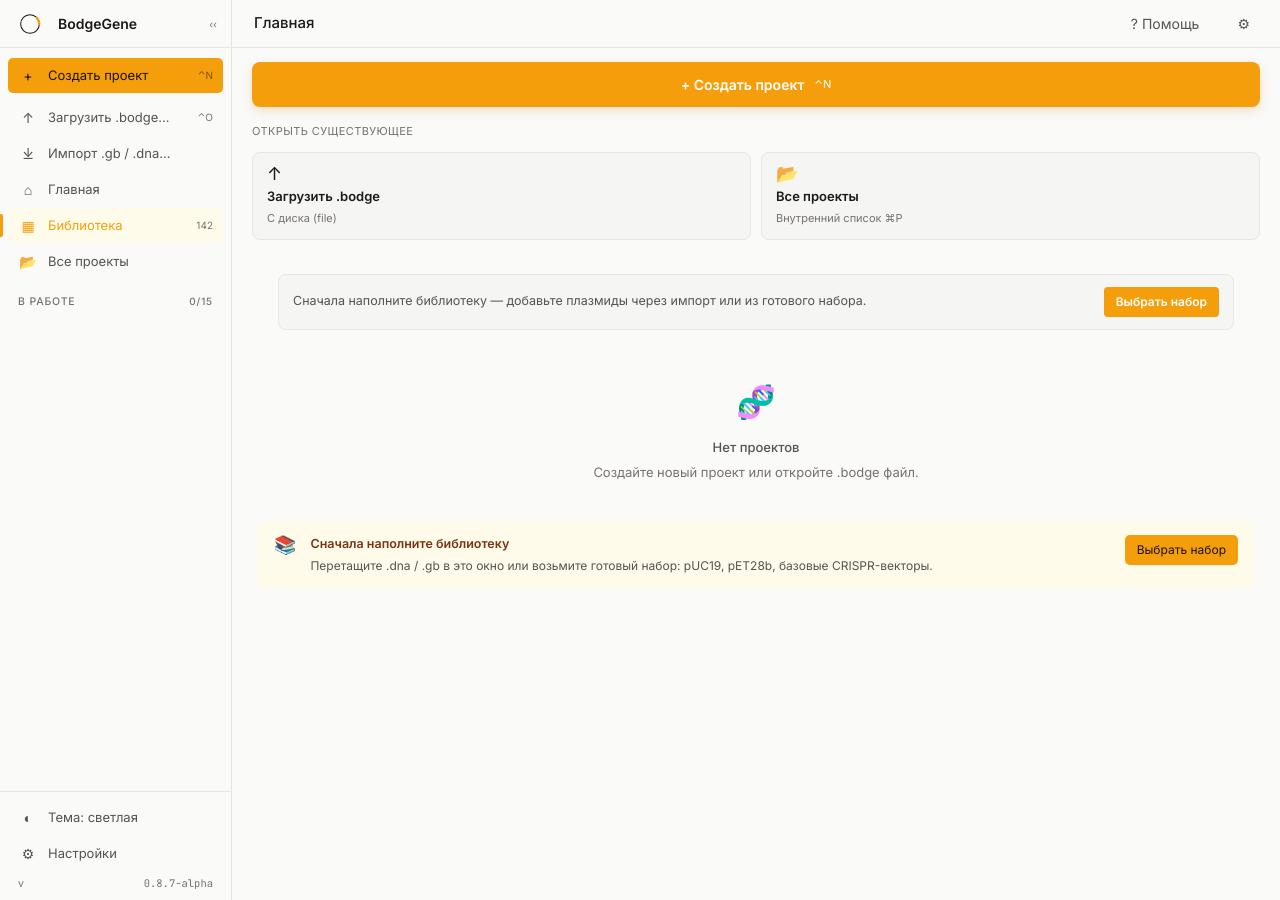
Scenario: StartScreen-Pixel — theme toggle (LIVE, not stub) › clicking Тема flips theme via setTheme (light → dark)
Click the button with test id "ss-foot-theme": (116, 818) [8,800,223,835]
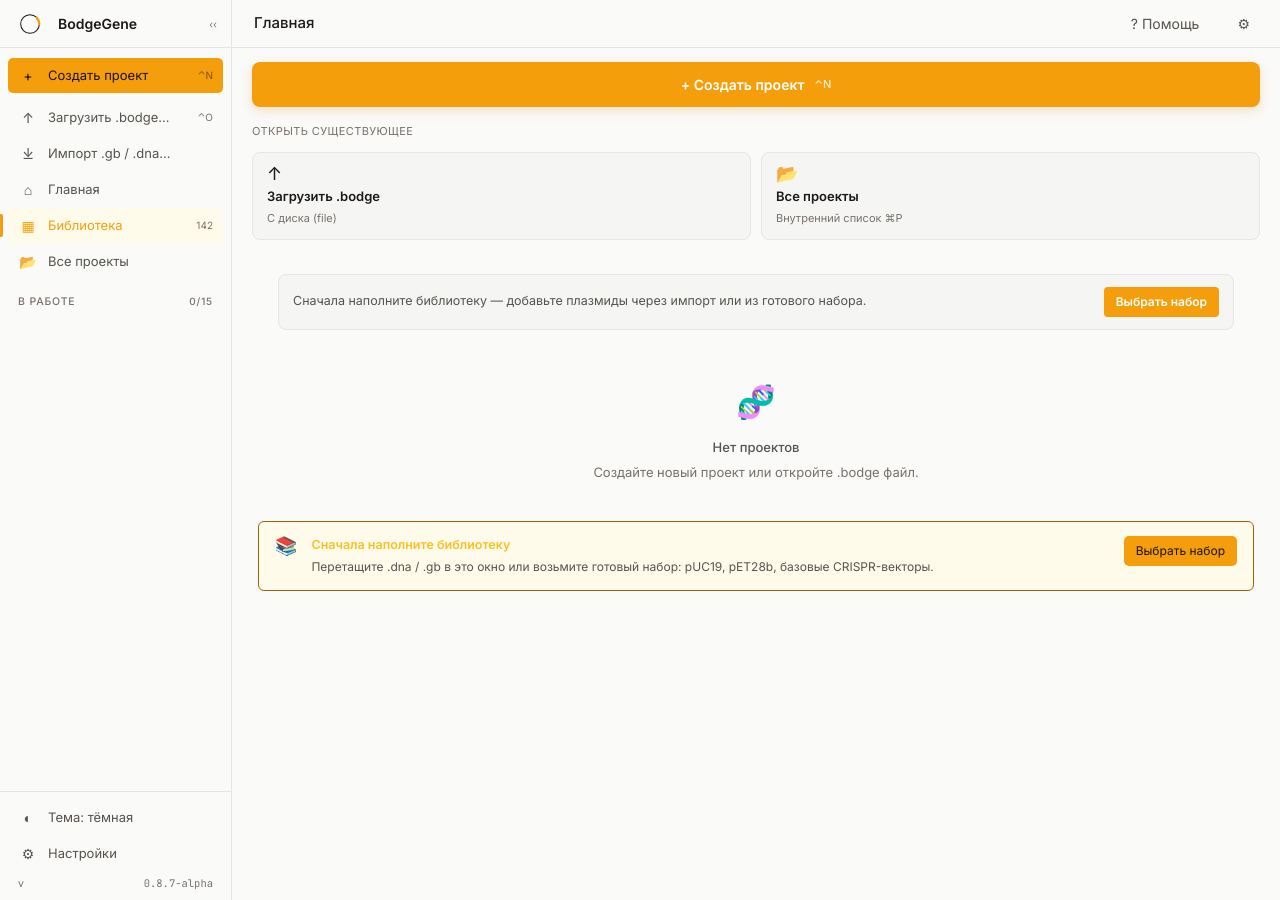
Now the button with test id "ss-foot-theme" shows "тёмная", box [8,800,223,835]
